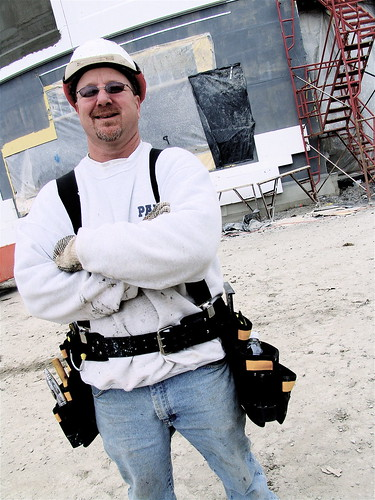person hardhat: (24, 37, 279, 493)
